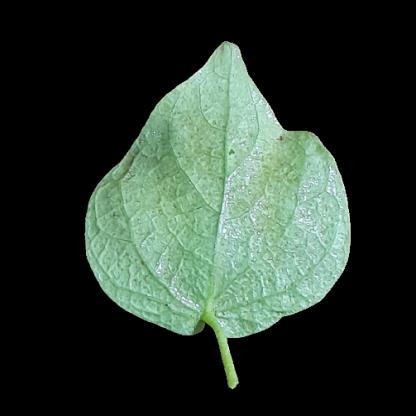curl_stage2: (136, 132, 312, 305)
